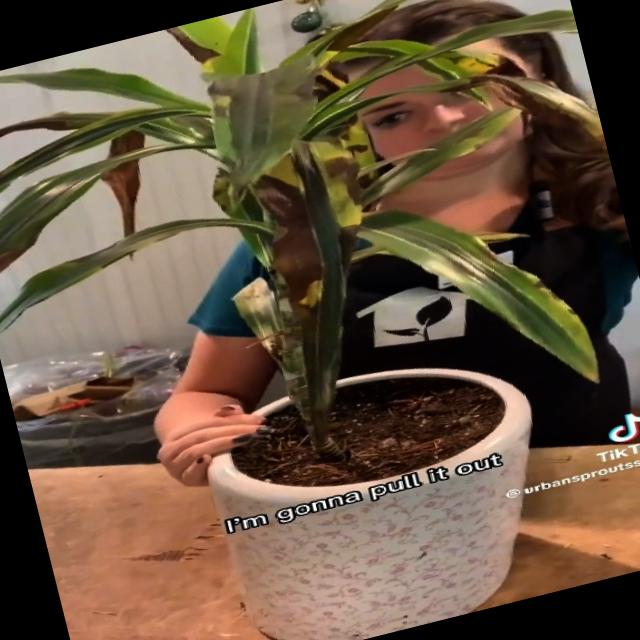lisc_suchy: (0, 142, 218, 273), (413, 230, 599, 382), (0, 107, 216, 191), (362, 106, 526, 210), (213, 59, 318, 208), (250, 147, 323, 346), (413, 75, 606, 144), (0, 240, 130, 330), (0, 68, 214, 109), (308, 120, 372, 256), (163, 7, 252, 85), (290, 0, 407, 58), (100, 126, 146, 260), (0, 111, 134, 135)
roslina_sucha: (0, 0, 602, 451)
